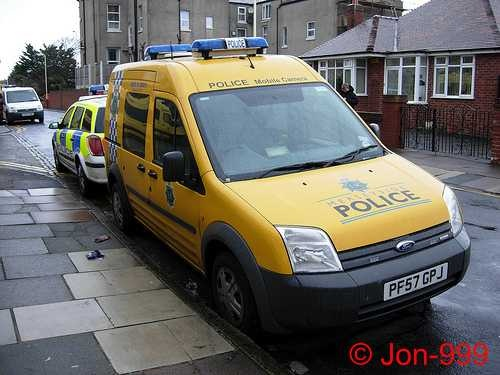Police Car: (94, 47, 472, 344), (45, 69, 125, 200)
